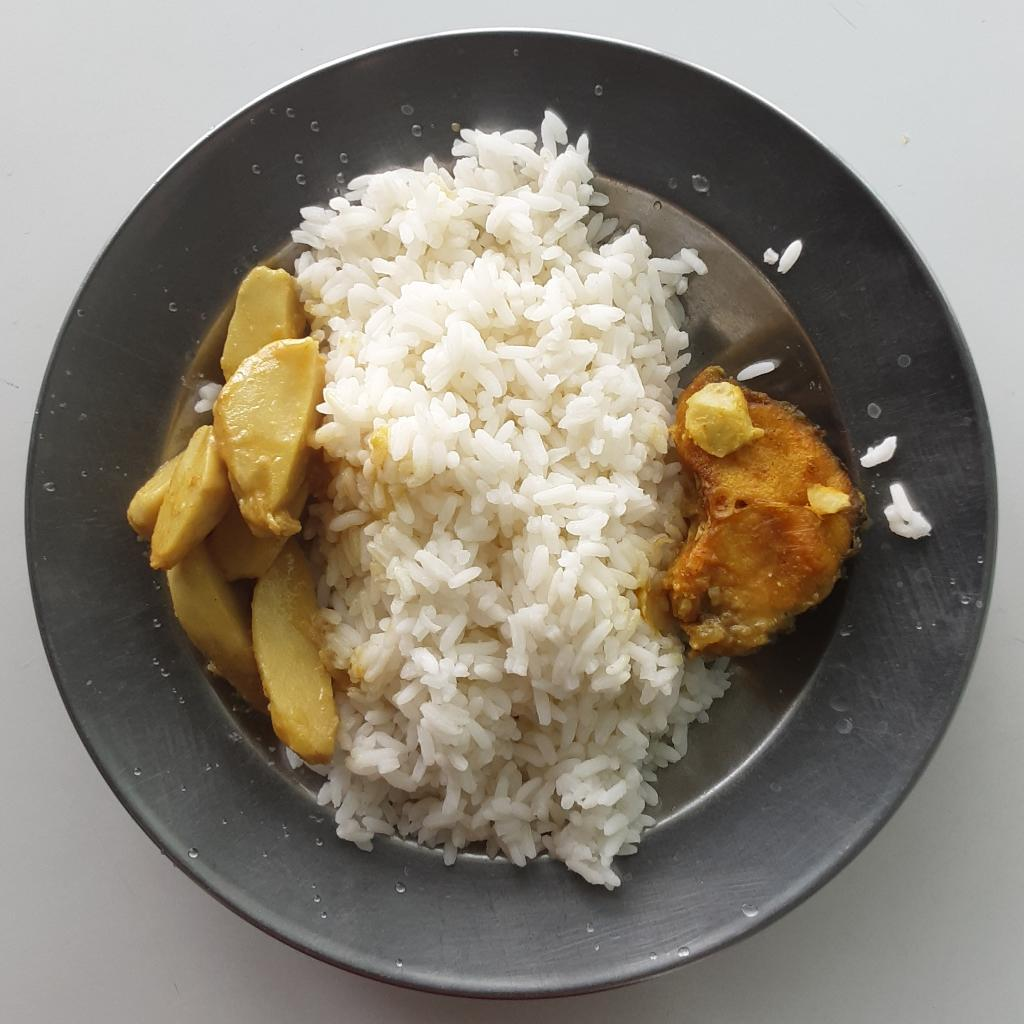fish: (654, 365, 867, 668)
kochu: (125, 267, 336, 770)
rice: (290, 109, 732, 893)
